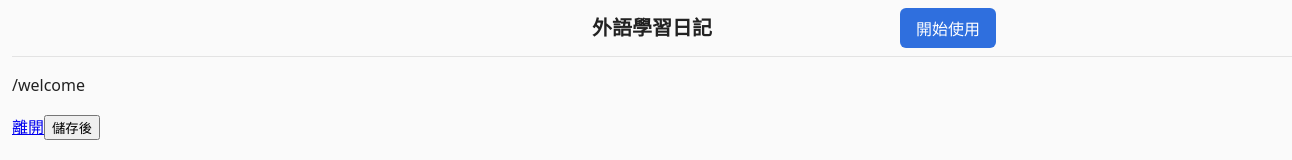
Test case: TopBar on the welcome page › does not navigate if the user already left before the save finished
This screenshot has width=1292, height=160.
Click the button "開始使用": coordinates (948, 28) [900,8,996,48]
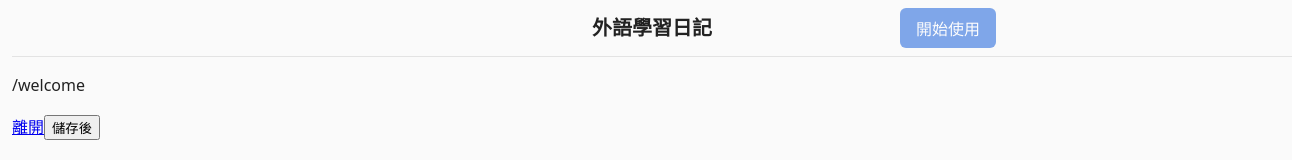
Click the link "離開": coordinates (28, 127) [12,116,44,138]
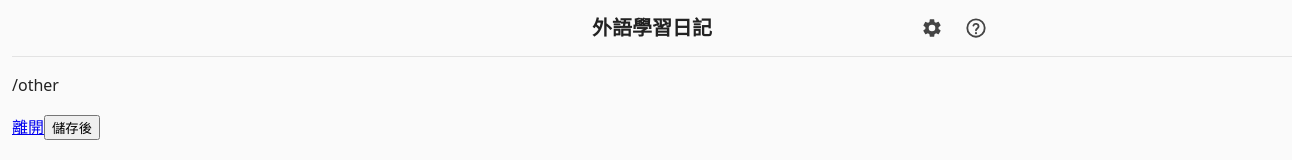
Check: the text with test id "path" reads "/other", box [12,74,59,96]
